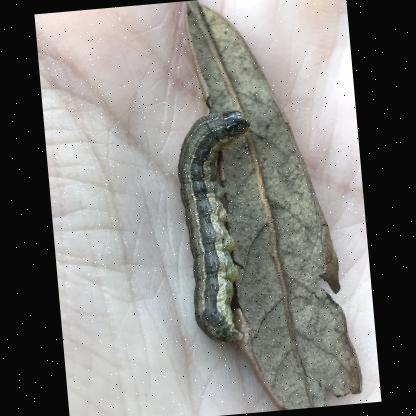Fall Armyworm Larvae: (168, 104, 274, 356)
